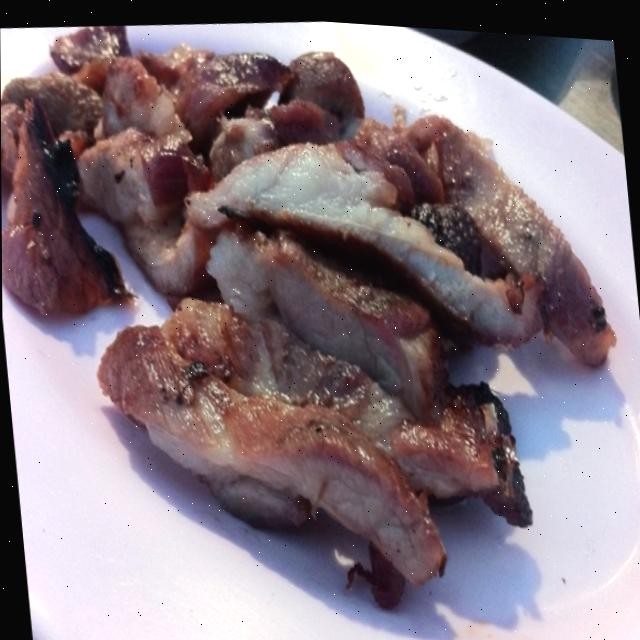猪肉菜式: (4, 0, 631, 628)
